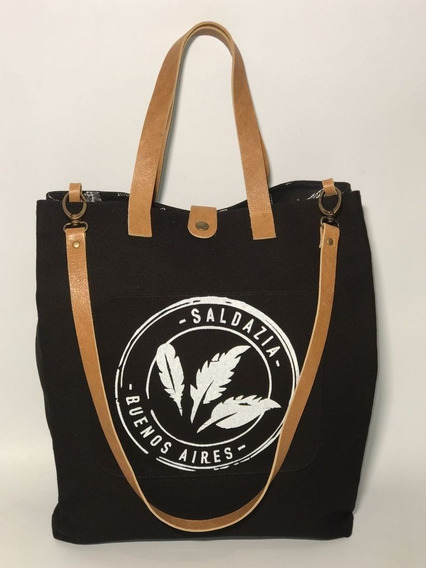cartera: (33, 19, 378, 543)
